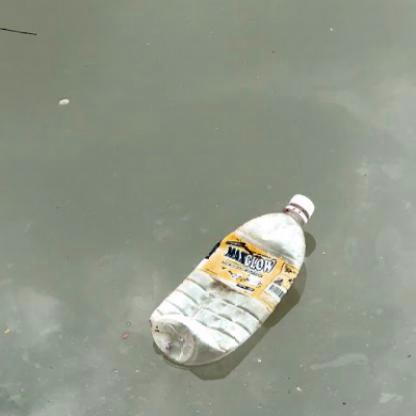Plastic: (145, 191, 316, 368)
